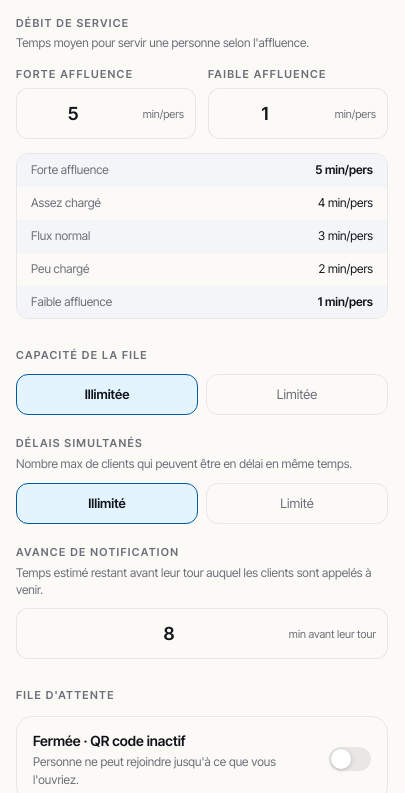
Test case: ScreenVendorSetup › shows queue NumberField after clicking Limitée (from unlim state)
(page scrolled)
Expected: the text "personnes max" is not shown
Click the button "Limitée".
click(297, 395)  # box [206,374,388,416]
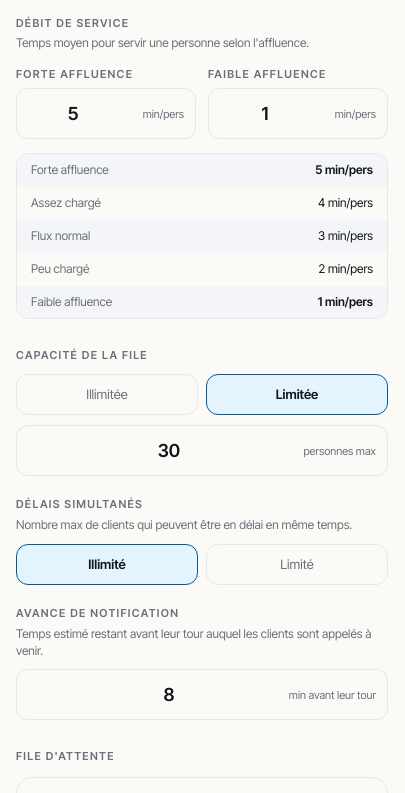
Result: the text "personnes max" is shown at [303,443,376,459]
